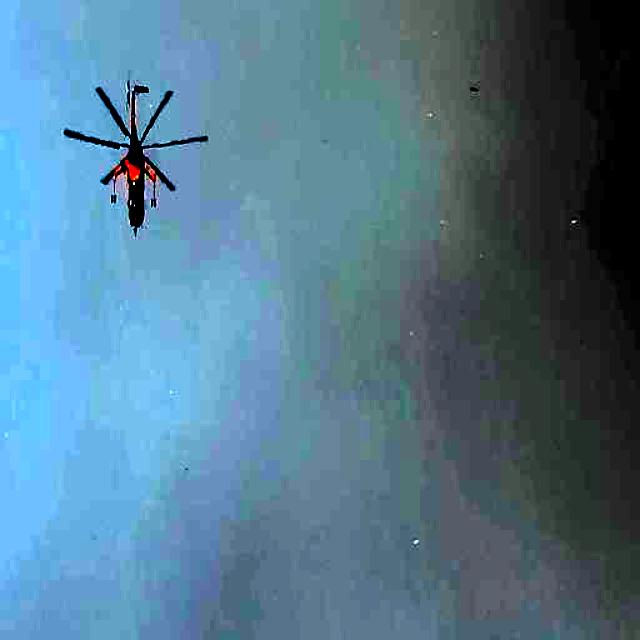drone: (62, 74, 211, 239)
